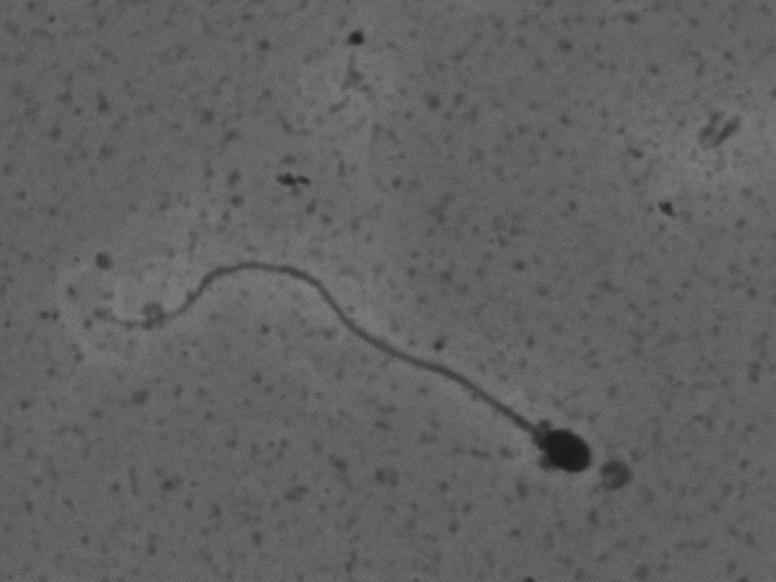Normal: (89, 226, 598, 512)
